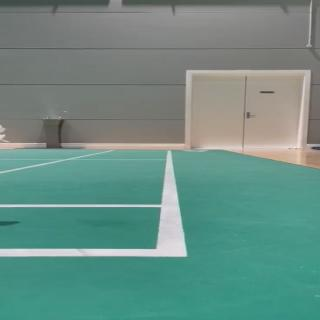Shuttle: (0, 124, 8, 144)
